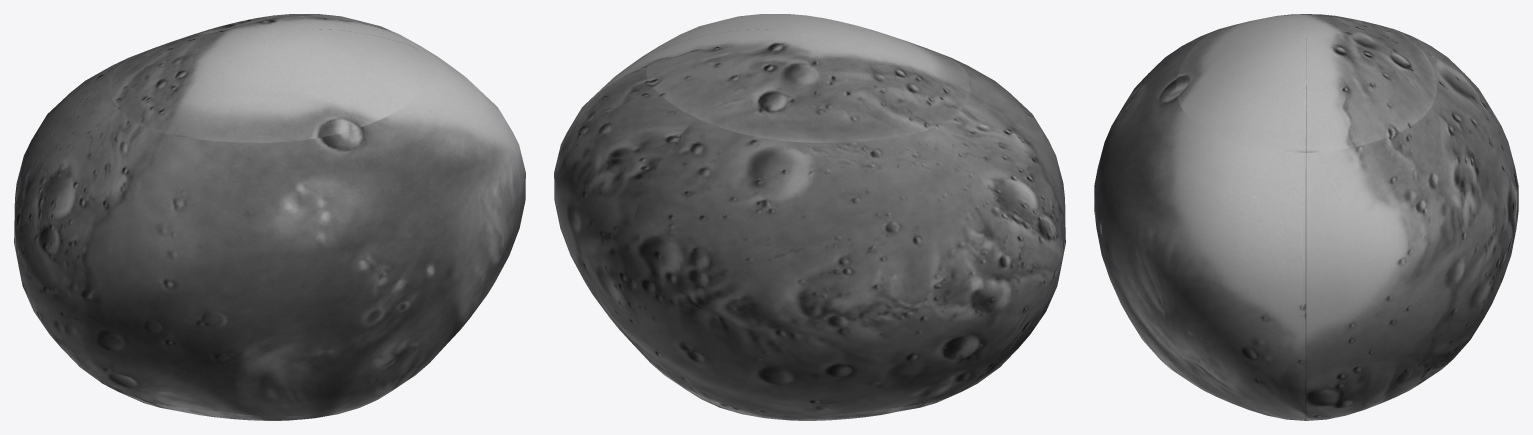
Rendered from deimos.glb.
3 views of the same model, side by side, from view 1: azimuth 30°, elevation 25°; view 2: azimuth 150°, elevation 25°; view 3: azimuth 270°, elevation 25° (orthographic). The views are drawn at different scales.
Bounding box in the file's own units: 2.36 × 1.74 × 1.96.
Materials: 1 (1 with a texture image).
